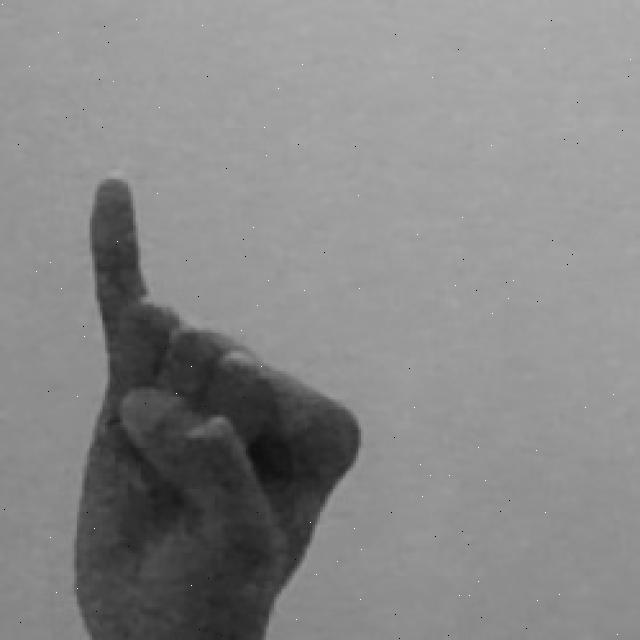I: (71, 176, 366, 640)
